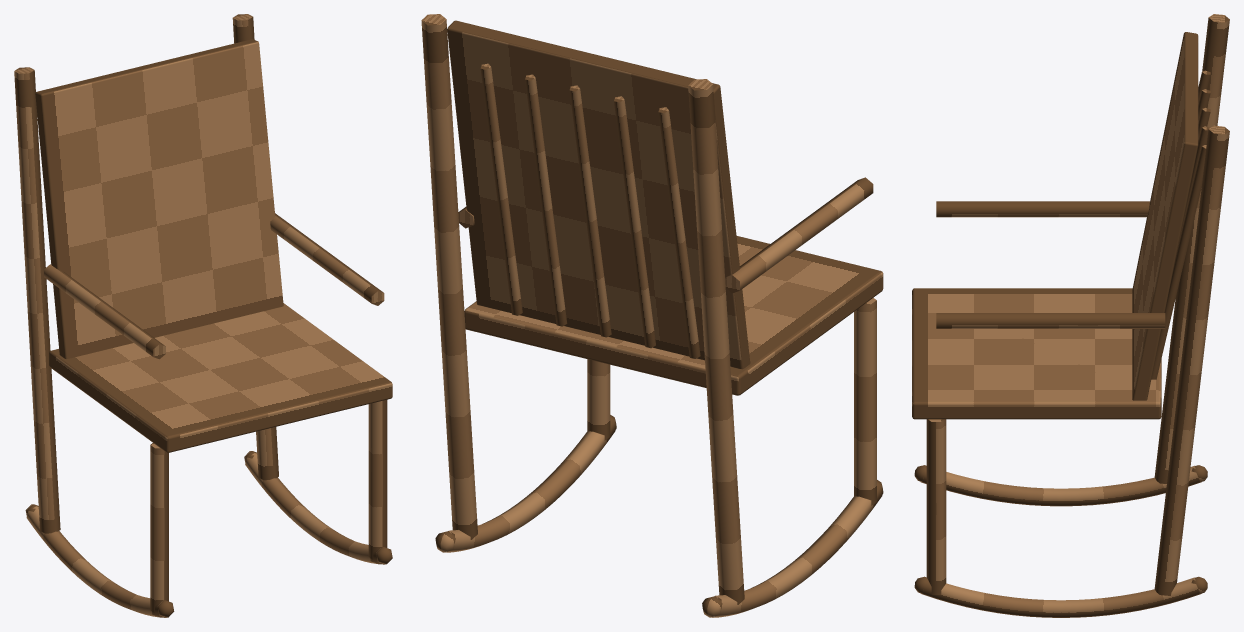
Rendered from rockingChair.glb.
3 renders of one model, left to right at view 1: azimuth 30°, elevation 25°; view 2: azimuth 150°, elevation 25°; view 3: azimuth 270°, elevation 25°, orthographic. The views are drawn at different scales.
Visible parts, largest first — view 1: dyn_wood_variant; view 2: dyn_wood_variant; view 3: dyn_wood_variant.
Part boxes in pixels (bbox=[...]): dyn_wood_variant: bbox=[14, 14, 392, 617]; dyn_wood_variant: bbox=[421, 14, 883, 617]; dyn_wood_variant: bbox=[912, 14, 1229, 617].
Bounding box in the file's own units: 0.5781 × 1.1 × 0.65.
1 material, 1 textured.
